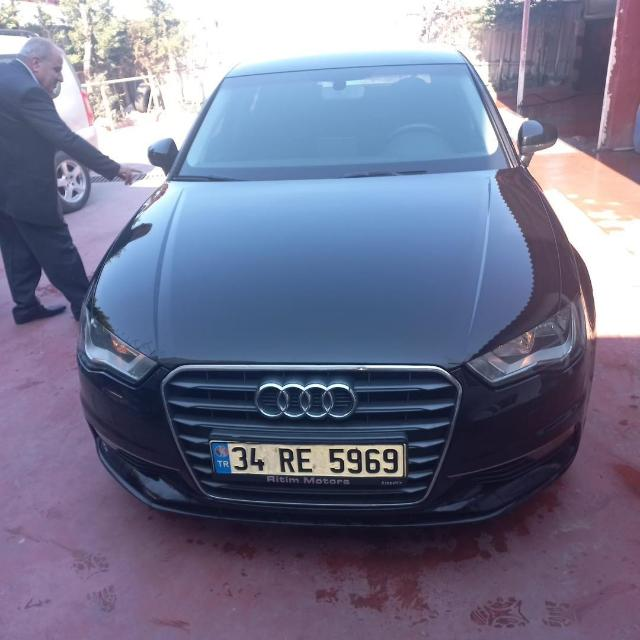Plaka: (214, 438, 406, 476)
